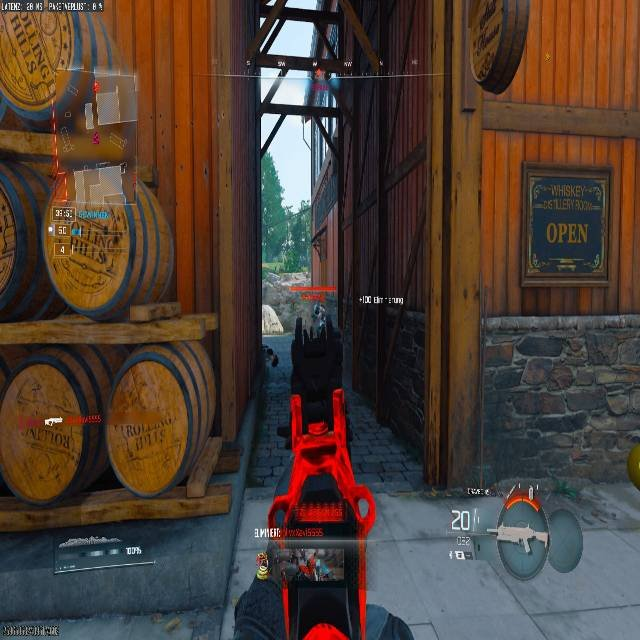player: (312, 303, 327, 334)
